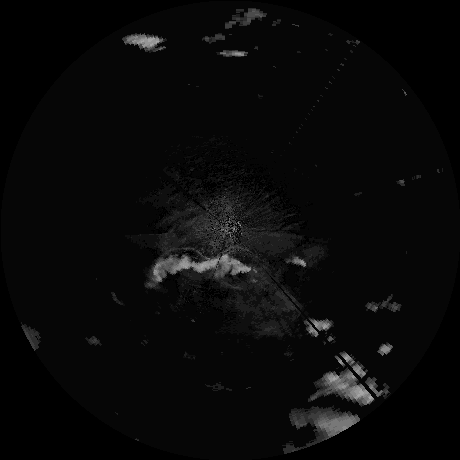frontgust: (211, 243, 263, 261), (158, 246, 209, 259)
